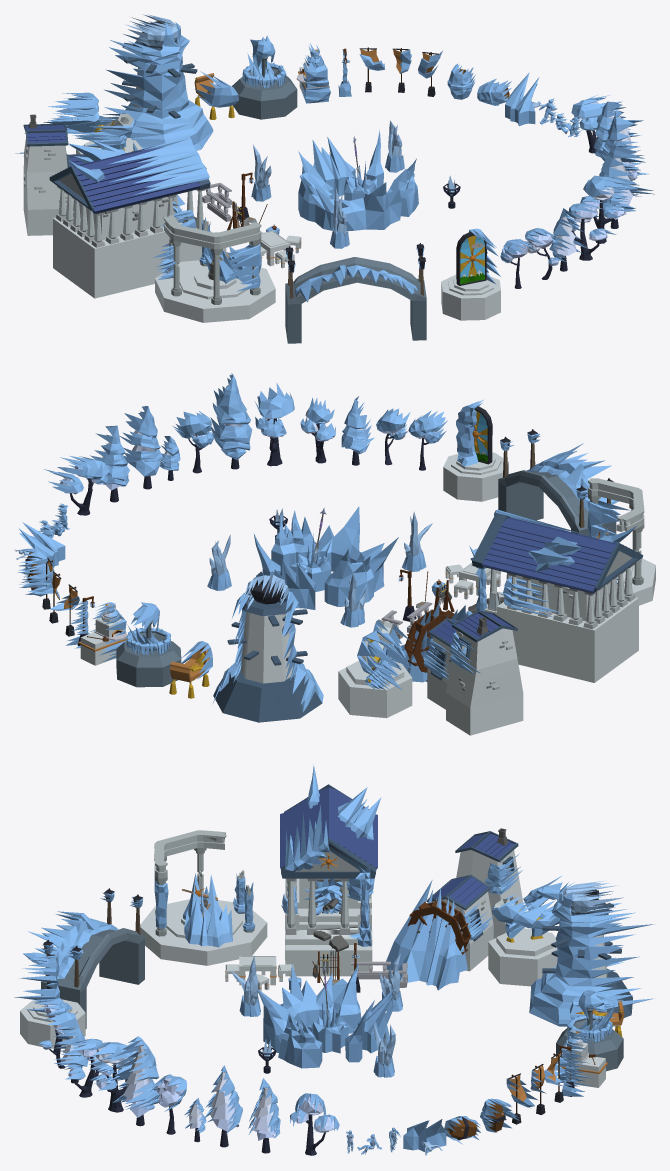
Rendered from Frostland.fbx.
The picture shows the model from 3 angles, top to bottom: view 1: azimuth 30°, elevation 25°; view 2: azimuth 150°, elevation 25°; view 3: azimuth 270°, elevation 25°; orthographic projection. The views are drawn at different scales.
Parts seen in each view (by area): view 1: Temple, Sun_temple, Lighthouse, Frost_nova, Bridge, Watermill, tained_glass, Fountain, Horn, Pine_4, Tree_4, Bread_Chemney (+17 smaller); view 2: Temple, Watermill, Lighthouse, Frost_nova, Bridge, Horn, tained_glass, Sun_temple, Fountain, Pine_4, Bread_Chemney, Pine_3 (+18 smaller); view 3: Temple, Watermill, Sun_temple, Lighthouse, Frost_nova, Bridge, Horn, tained_glass, Fountain, Pine_4, Bread_Chemney, Tree_4 (+17 smaller).
Part boxes in pixels (left/top/right/bottom): Temple: left=49, top=136, right=226, bottom=298; Sun_temple: left=152, top=215, right=275, bottom=322; Lighthouse: left=99, top=14, right=213, bottom=150; Frost_nova: left=298, top=130, right=418, bottom=231; Bridge: left=285, top=243, right=426, bottom=343; Watermill: left=15, top=114, right=184, bottom=235; tained_glass: left=441, top=228, right=500, bottom=320; Fountain: left=232, top=35, right=297, bottom=119; Horn: left=43, top=92, right=142, bottom=154; Pine_4: left=599, top=142, right=654, bottom=228; Tree_4: left=580, top=175, right=635, bottom=243; Bread_Chemney: left=296, top=43, right=330, bottom=103; Temple: left=465, top=509, right=643, bottom=682; Watermill: left=401, top=600, right=523, bottom=735; Lighthouse: left=212, top=569, right=323, bottom=722; Frost_nova: left=253, top=506, right=398, bottom=609; Bridge: left=498, top=429, right=618, bottom=535; Horn: left=338, top=619, right=412, bottom=718; tained_glass: left=443, top=399, right=508, bottom=501; Sun_temple: left=587, top=478, right=655, bottom=605; Fountain: left=116, top=602, right=181, bottom=687; Pine_4: left=210, top=373, right=252, bottom=469; Bread_Chemney: left=78, top=602, right=127, bottom=665; Pine_3: left=119, top=406, right=163, bottom=489; Temple: left=280, top=764, right=381, bottom=976; Watermill: left=386, top=828, right=524, bottom=990; Sun_temple: left=140, top=830, right=267, bottom=965; Lighthouse: left=529, top=880, right=655, bottom=1026; Frost_nova: left=256, top=963, right=395, bottom=1068; Bridge: left=23, top=888, right=144, bottom=1028; Horn: left=488, top=875, right=574, bottom=986; tained_glass: left=14, top=954, right=85, bottom=1048; Fountain: left=556, top=990, right=623, bottom=1071; Pine_4: left=111, top=1036, right=158, bottom=1126; Bread_Chemney: left=558, top=1028, right=607, bottom=1087; Tree_4: left=84, top=1042, right=135, bottom=1112.
Size of the model in its own units: 4883 by 1171 by 4666.
